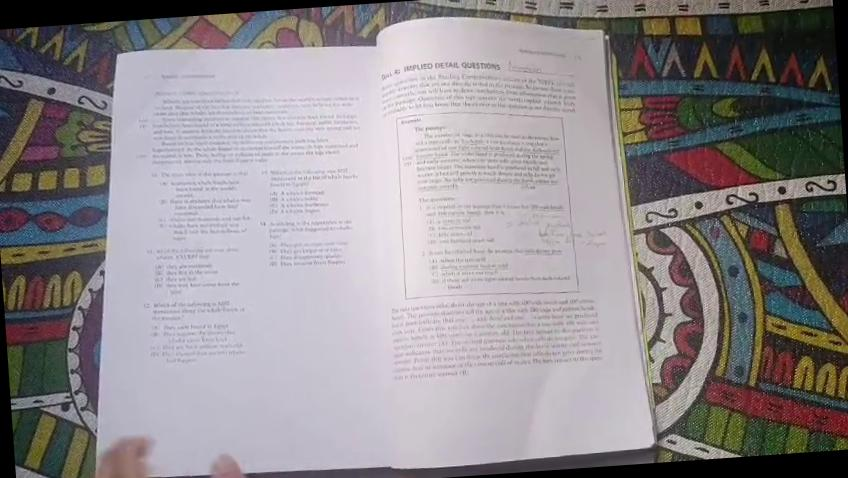Kertas: (127, 42, 446, 456), (367, 29, 634, 476)
